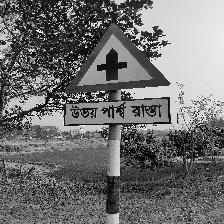Crossroad: (46, 20, 179, 142)
